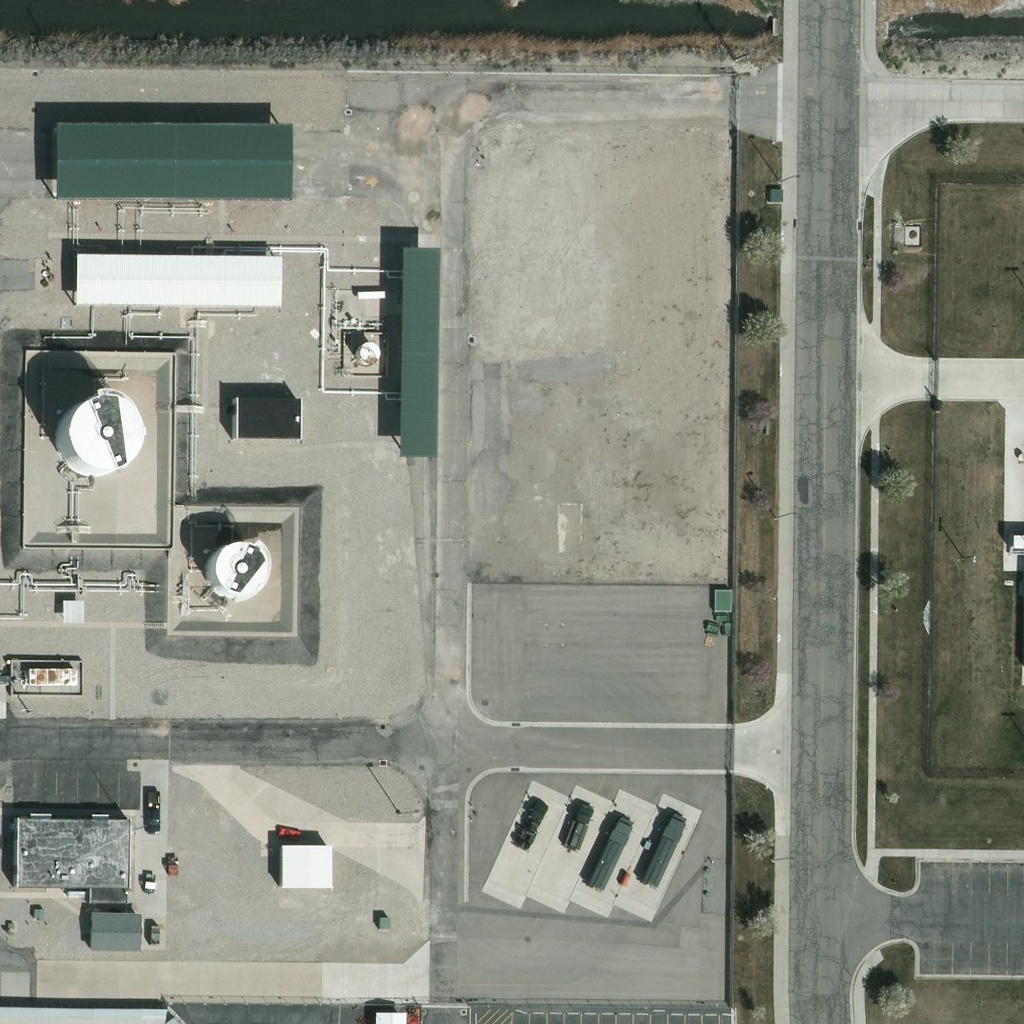pickup: (145, 791, 162, 836)
